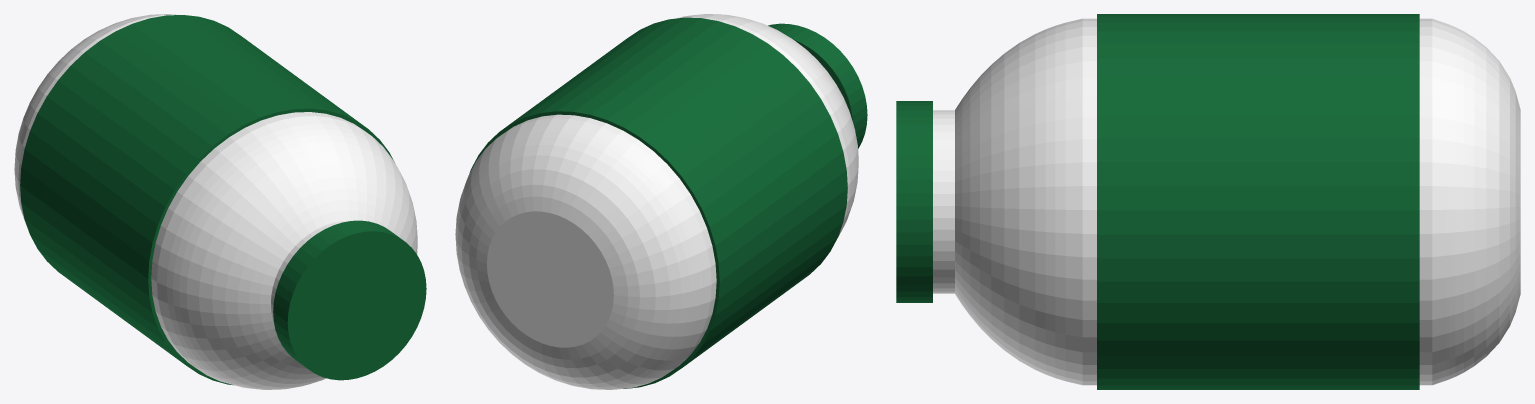
Rendered from tinker.obj.
The picture shows the model from 3 angles, left to right: view 1: azimuth 30°, elevation 25°; view 2: azimuth 150°, elevation 25°; view 3: azimuth 270°, elevation 25°; orthographic projection. The views are drawn at different scales.
Parts seen in each view (by area): view 1: obj_3, obj_0, obj_2, obj_1; view 2: obj_0, obj_3, obj_2; view 3: obj_3, obj_0, obj_2, obj_1.
Boxes of the visible parts, x1,y1,x2,y2 form: obj_3: (20,15,394,385); obj_0: (14,14,417,389); obj_2: (273,220,426,380); obj_1: (271,221,349,322); obj_0: (455,14,858,389); obj_3: (469,17,847,388); obj_2: (768,23,867,148); obj_3: (1097,14,1419,389); obj_0: (955,18,1520,385); obj_2: (896,101,932,302); obj_1: (933,110,954,293).
Bounding box in the file's own units: 4.1 × 4.1 × 6.8.
